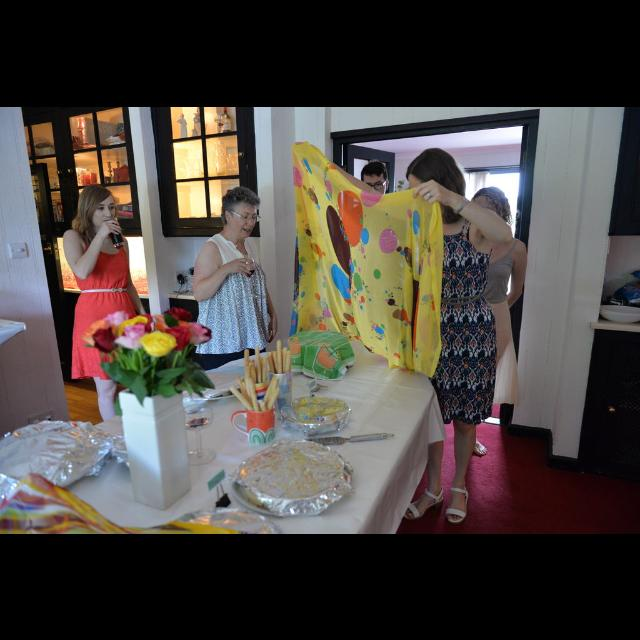Flower: (142, 328, 178, 356), (90, 328, 118, 354), (115, 324, 147, 346), (82, 317, 106, 345), (162, 326, 190, 350), (164, 306, 192, 320), (192, 322, 210, 343), (108, 312, 128, 328), (123, 315, 147, 325), (156, 316, 168, 328)
